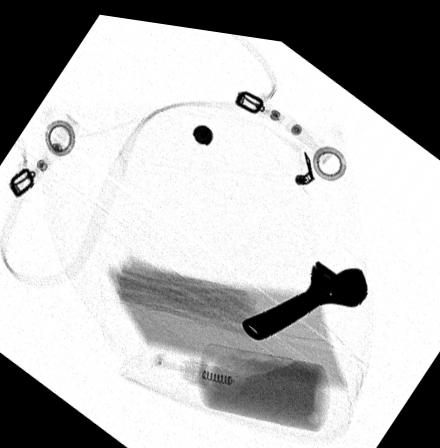Wrench: (240, 249, 368, 333)
